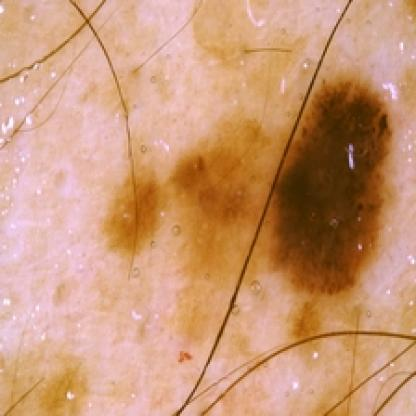Skin_Cancer-Malignant: (275, 74, 393, 300)
